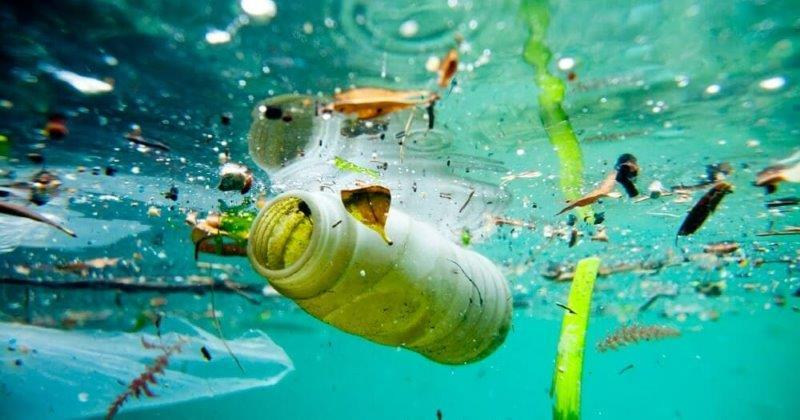plastic: (244, 192, 514, 368)
